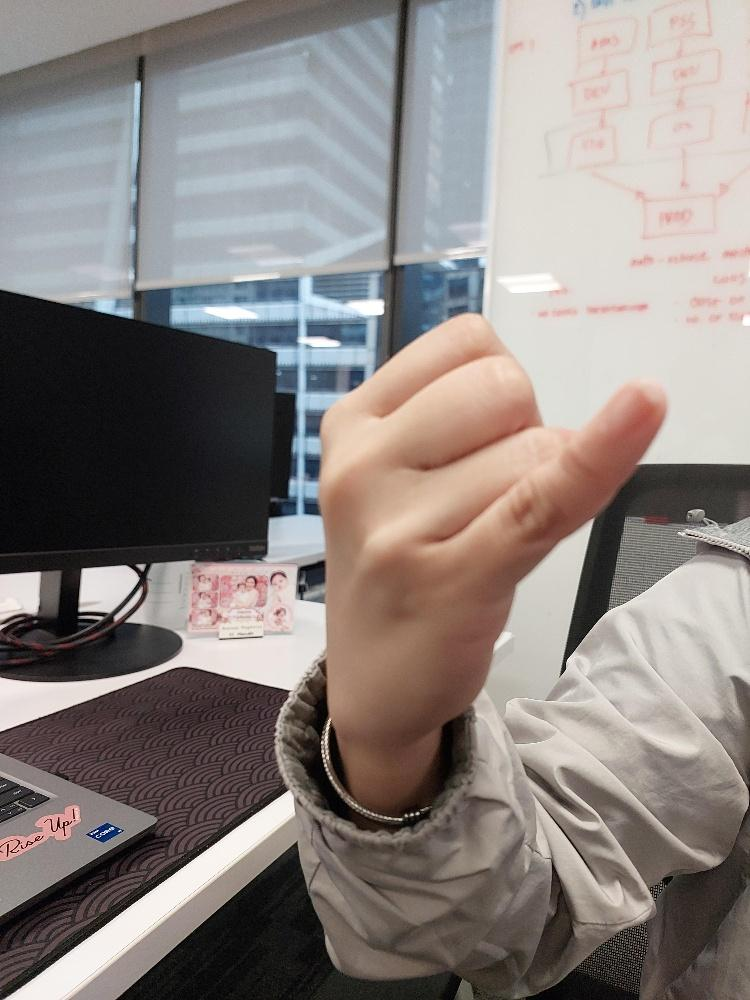j: (314, 305, 666, 724)
